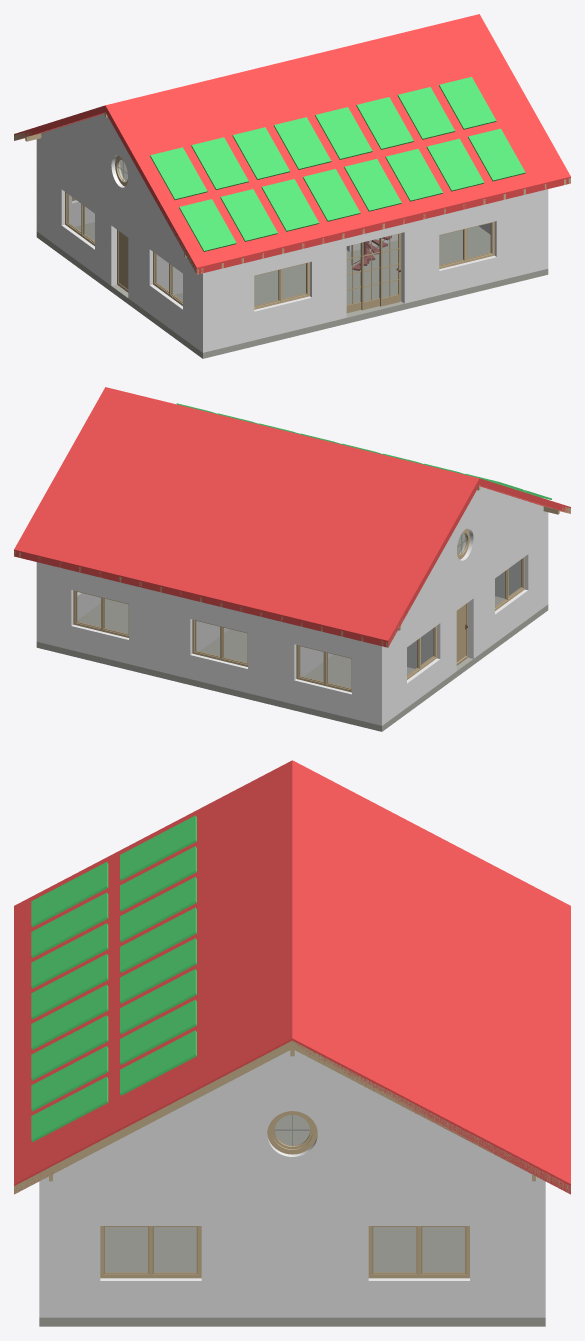
The picture shows the model from 3 angles, top to bottom: view 1: azimuth 30°, elevation 25°; view 2: azimuth 150°, elevation 25°; view 3: azimuth 270°, elevation 25°; orthographic projection. The views are drawn at different scales.
Parts seen in each view (by area): view 1: IfcSlab/Dach-2, IfcWallStandardCase/Wand-Ext-ERDG-4, IfcWallStandardCase/Wand-Ext-ERDG-1, IfcSlab/Bodenplatte, IfcWallStandardCase/Wand-Ext-OG-1, IfcDoor/Terrassentuer, IfcWindow/EG-Fenster-5, IfcWindow/EG-Fenster-4, POC_SolarPanel_3, POC_SolarPanel_7, POC_SolarPanel_5, POC_SolarPanel_1 (+19 smaller); view 2: IfcSlab/Dach-1, IfcWallStandardCase/Wand-Ext-ERDG-2, IfcWallStandardCase/Wand-Ext-ERDG-1, IfcWallStandardCase/Wand-Ext-OG-1, IfcSlab/Bodenplatte, IfcWindow/EG-Fenster-1, IfcWindow/EG-Fenster-3, IfcWindow/EG-Fenster-2, IfcWindow/EG-Fenster-7, IfcWindow/EG-Fenster-6, IfcSlab/Dach-2, IfcDoor/Haustuer (+4 smaller); view 3: IfcSlab/Dach-1, IfcWallStandardCase/Wand-Ext-ERDG-3, IfcSlab/Dach-2, IfcWallStandardCase/Wand-Ext-OG-3, IfcSlab/Bodenplatte, IfcWindow/EG-Fenster-9, IfcWindow/EG-Fenster-8, IfcMember/Sparren-41, IfcMember/Sparren-16, POC_SolarPanel_3, POC_SolarPanel_9, POC_SolarPanel_13 (+15 smaller).
Part boxes in pixels (left/top/right/bottom): IfcSlab/Dach-2: left=105, top=14, right=570, bottom=274; IfcWallStandardCase/Wand-Ext-ERDG-4: left=203, top=189, right=548, bottom=352; IfcWallStandardCase/Wand-Ext-ERDG-1: left=36, top=150, right=202, bottom=352; IfcSlab/Bodenplatte: left=36, top=222, right=548, bottom=358; IfcWallStandardCase/Wand-Ext-OG-1: left=36, top=113, right=188, bottom=260; IfcDoor/Terrassentuer: left=346, top=233, right=401, bottom=313; IfcWindow/EG-Fenster-5: left=439, top=221, right=494, bottom=268; IfcWindow/EG-Fenster-4: left=254, top=262, right=309, bottom=309; POC_SolarPanel_3: left=220, top=189, right=277, bottom=241; POC_SolarPanel_7: left=303, top=169, right=360, bottom=221; POC_SolarPanel_5: left=261, top=179, right=318, bottom=231; POC_SolarPanel_1: left=179, top=199, right=236, bottom=251; IfcSlab/Dach-1: left=14, top=387, right=479, bottom=647; IfcWallStandardCase/Wand-Ext-ERDG-2: left=36, top=562, right=381, bottom=725; IfcWallStandardCase/Wand-Ext-ERDG-1: left=382, top=523, right=548, bottom=725; IfcWallStandardCase/Wand-Ext-OG-1: left=396, top=486, right=548, bottom=633; IfcSlab/Bodenplatte: left=36, top=596, right=548, bottom=731; IfcWindow/EG-Fenster-1: left=296, top=645, right=351, bottom=692; IfcWindow/EG-Fenster-3: left=73, top=590, right=128, bottom=637; IfcWindow/EG-Fenster-2: left=192, top=619, right=247, bottom=666; IfcWindow/EG-Fenster-7: left=495, top=557, right=524, bottom=610; IfcWindow/EG-Fenster-6: left=407, top=626, right=436, bottom=679; IfcSlab/Dach-2: left=479, top=478, right=570, bottom=512; IfcDoor/Haustuer: left=456, top=603, right=467, bottom=665; IfcSlab/Dach-1: left=292, top=760, right=570, bottom=1194; IfcWallStandardCase/Wand-Ext-ERDG-3: left=39, top=1193, right=545, bottom=1317; IfcSlab/Dach-2: left=14, top=760, right=292, bottom=1192; IfcWallStandardCase/Wand-Ext-OG-3: left=39, top=1050, right=545, bottom=1193; IfcSlab/Bodenplatte: left=39, top=1227, right=545, bottom=1326; IfcWindow/EG-Fenster-9: left=100, top=1226, right=201, bottom=1278; IfcWindow/EG-Fenster-8: left=368, top=1226, right=469, bottom=1278; IfcMember/Sparren-41: left=14, top=1041, right=292, bottom=1194; IfcMember/Sparren-16: left=292, top=1040, right=570, bottom=1193; POC_SolarPanel_3: left=31, top=892, right=108, bottom=957; POC_SolarPanel_9: left=31, top=984, right=108, bottom=1049; POC_SolarPanel_13: left=31, top=1046, right=108, bottom=1111.
Size of the model in its own units: 13 by 6.52 by 11.
